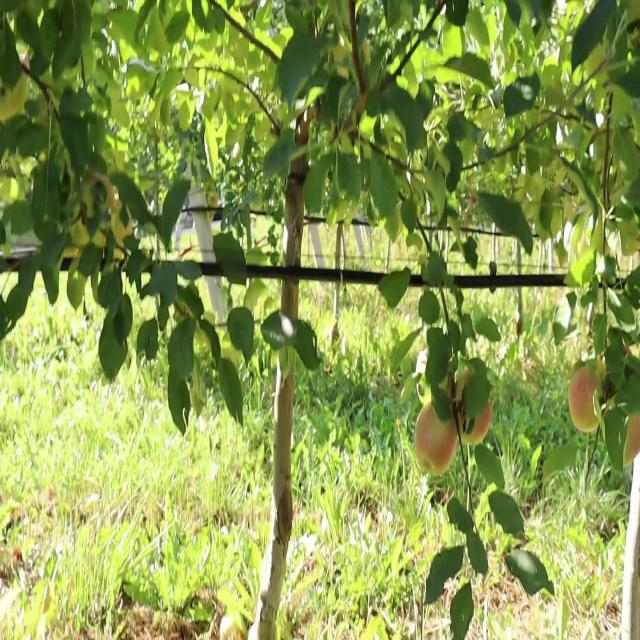apple: (416, 405, 459, 475), (568, 362, 600, 436), (84, 177, 120, 224), (460, 398, 492, 448), (112, 206, 134, 249), (624, 412, 640, 468)
